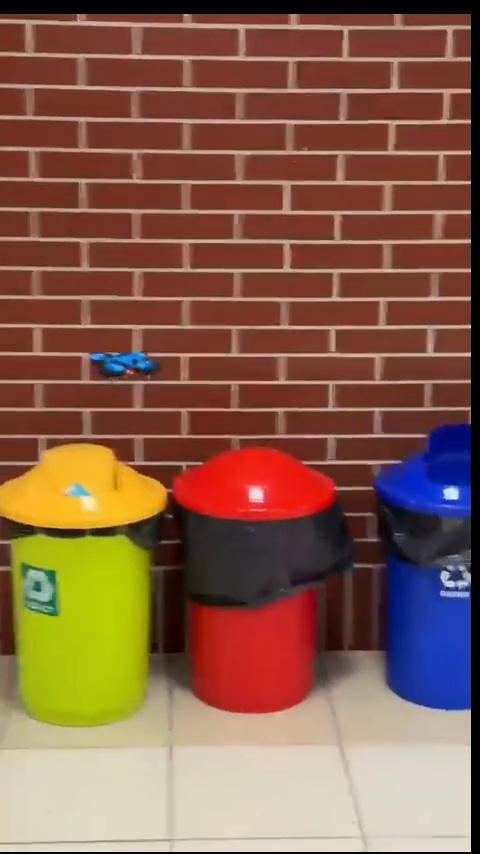drone: (90, 346, 160, 376)
